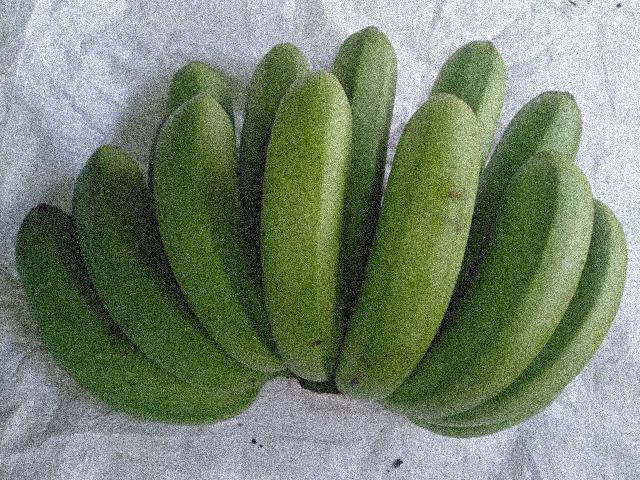unripe: (336, 64, 501, 416), (404, 146, 585, 442), (67, 121, 217, 424), (256, 68, 382, 423), (151, 82, 277, 430)
